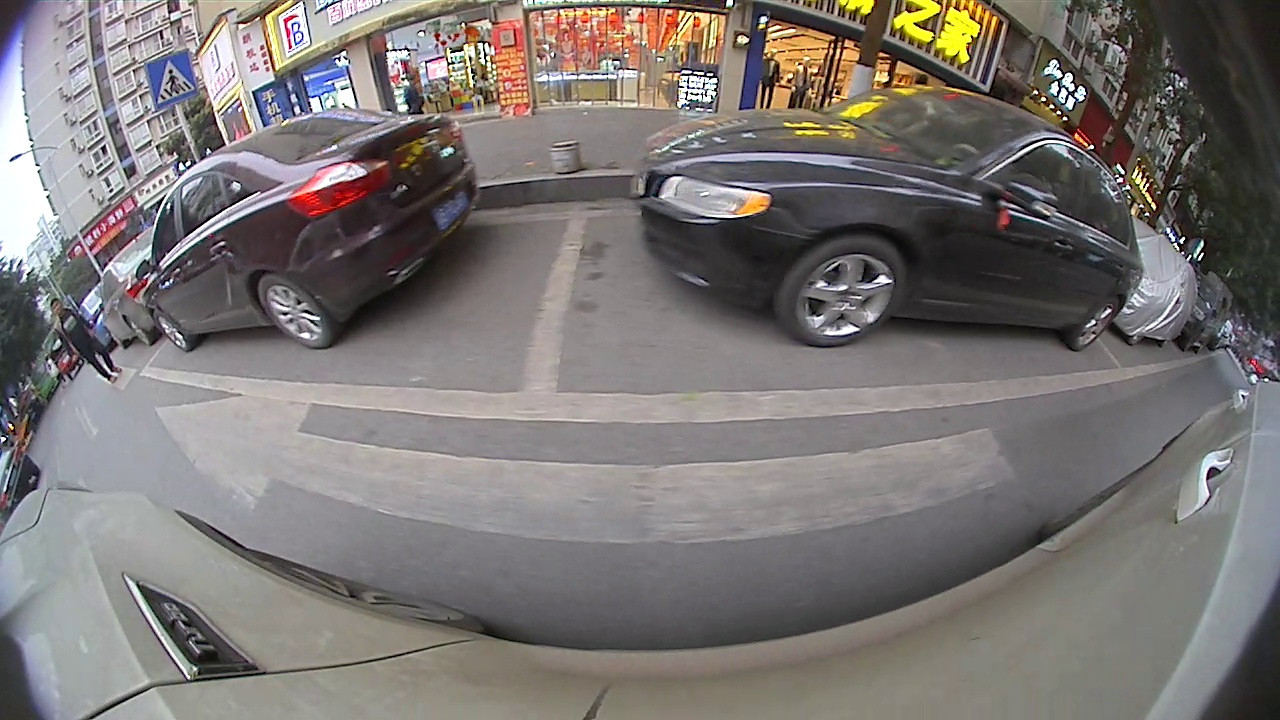car: (634, 82, 1150, 353), (131, 106, 480, 356), (1114, 220, 1196, 349), (97, 222, 170, 349)
front: (782, 232, 908, 350), (150, 312, 197, 352)
person: (47, 294, 124, 390)
rear: (251, 275, 334, 351), (1066, 289, 1123, 355), (120, 320, 157, 351)
